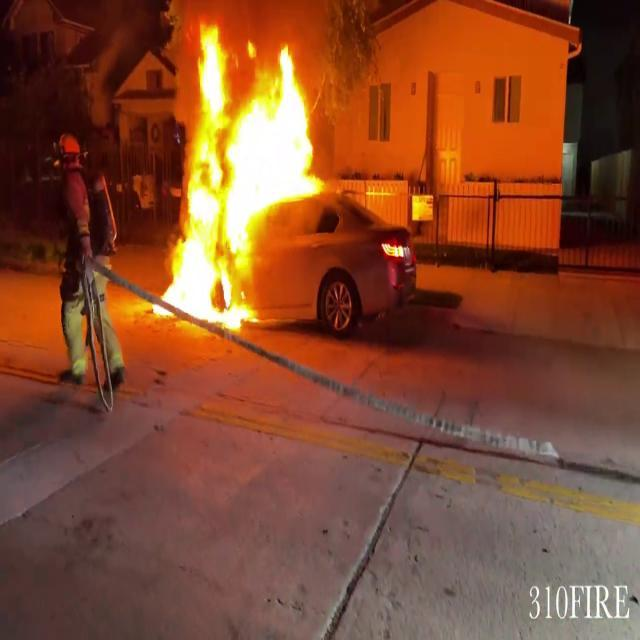Fire: (156, 14, 328, 326)
